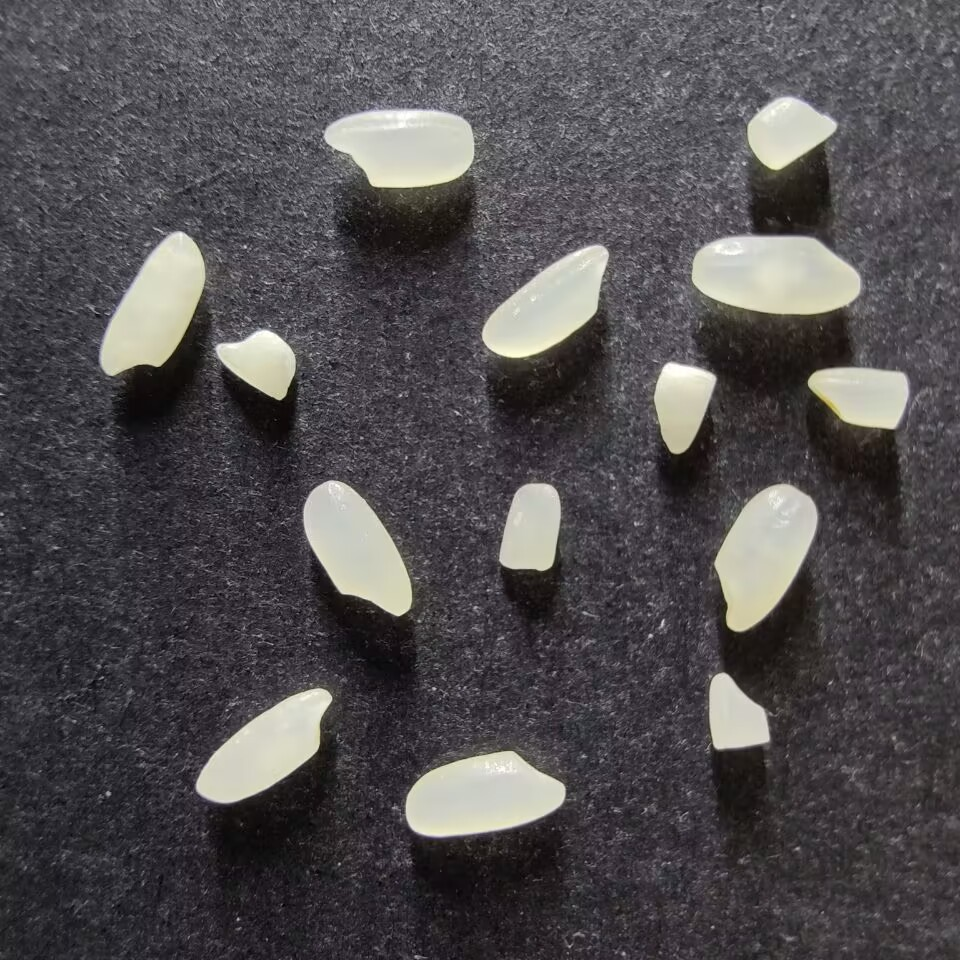broken: (744, 95, 840, 172), (806, 365, 909, 434), (650, 359, 718, 456), (495, 479, 563, 574), (212, 327, 297, 402), (706, 671, 772, 752)
rice: (193, 687, 334, 805), (710, 482, 820, 633), (97, 228, 208, 377), (300, 478, 414, 618), (480, 240, 610, 359), (403, 747, 567, 838), (689, 233, 861, 315), (322, 108, 475, 190)
